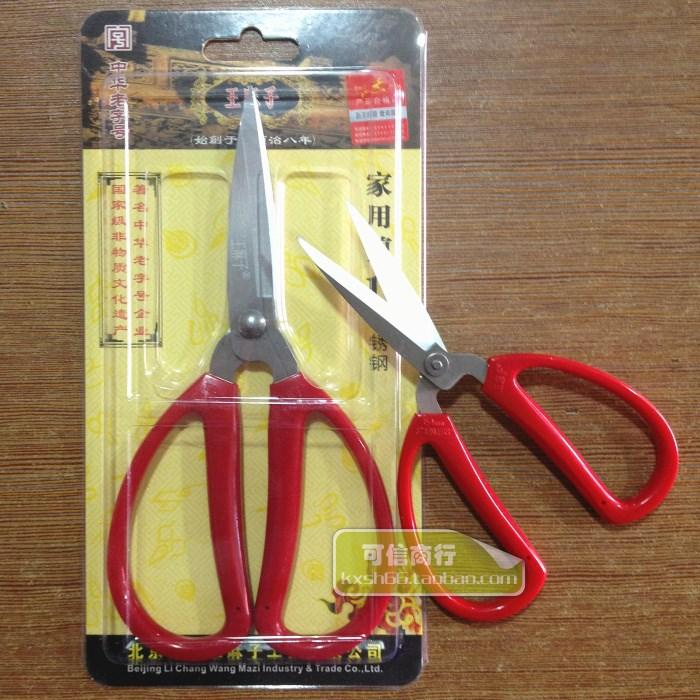scissor: (94, 80, 669, 677)
